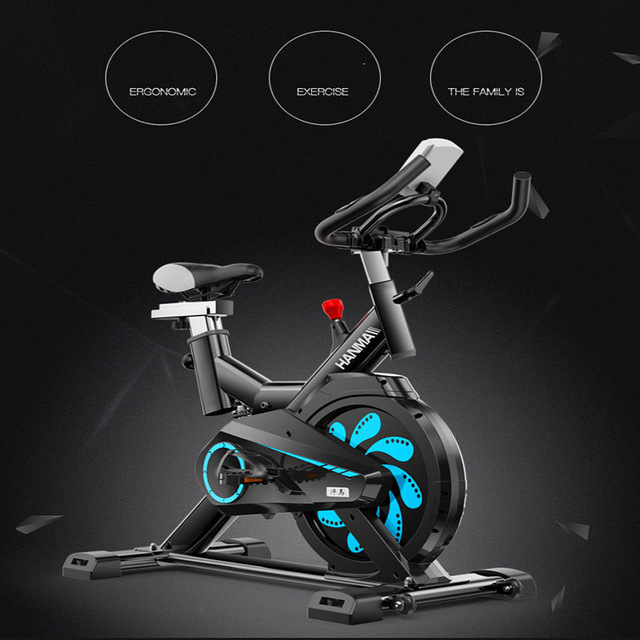gym_bike: (61, 141, 556, 623)
